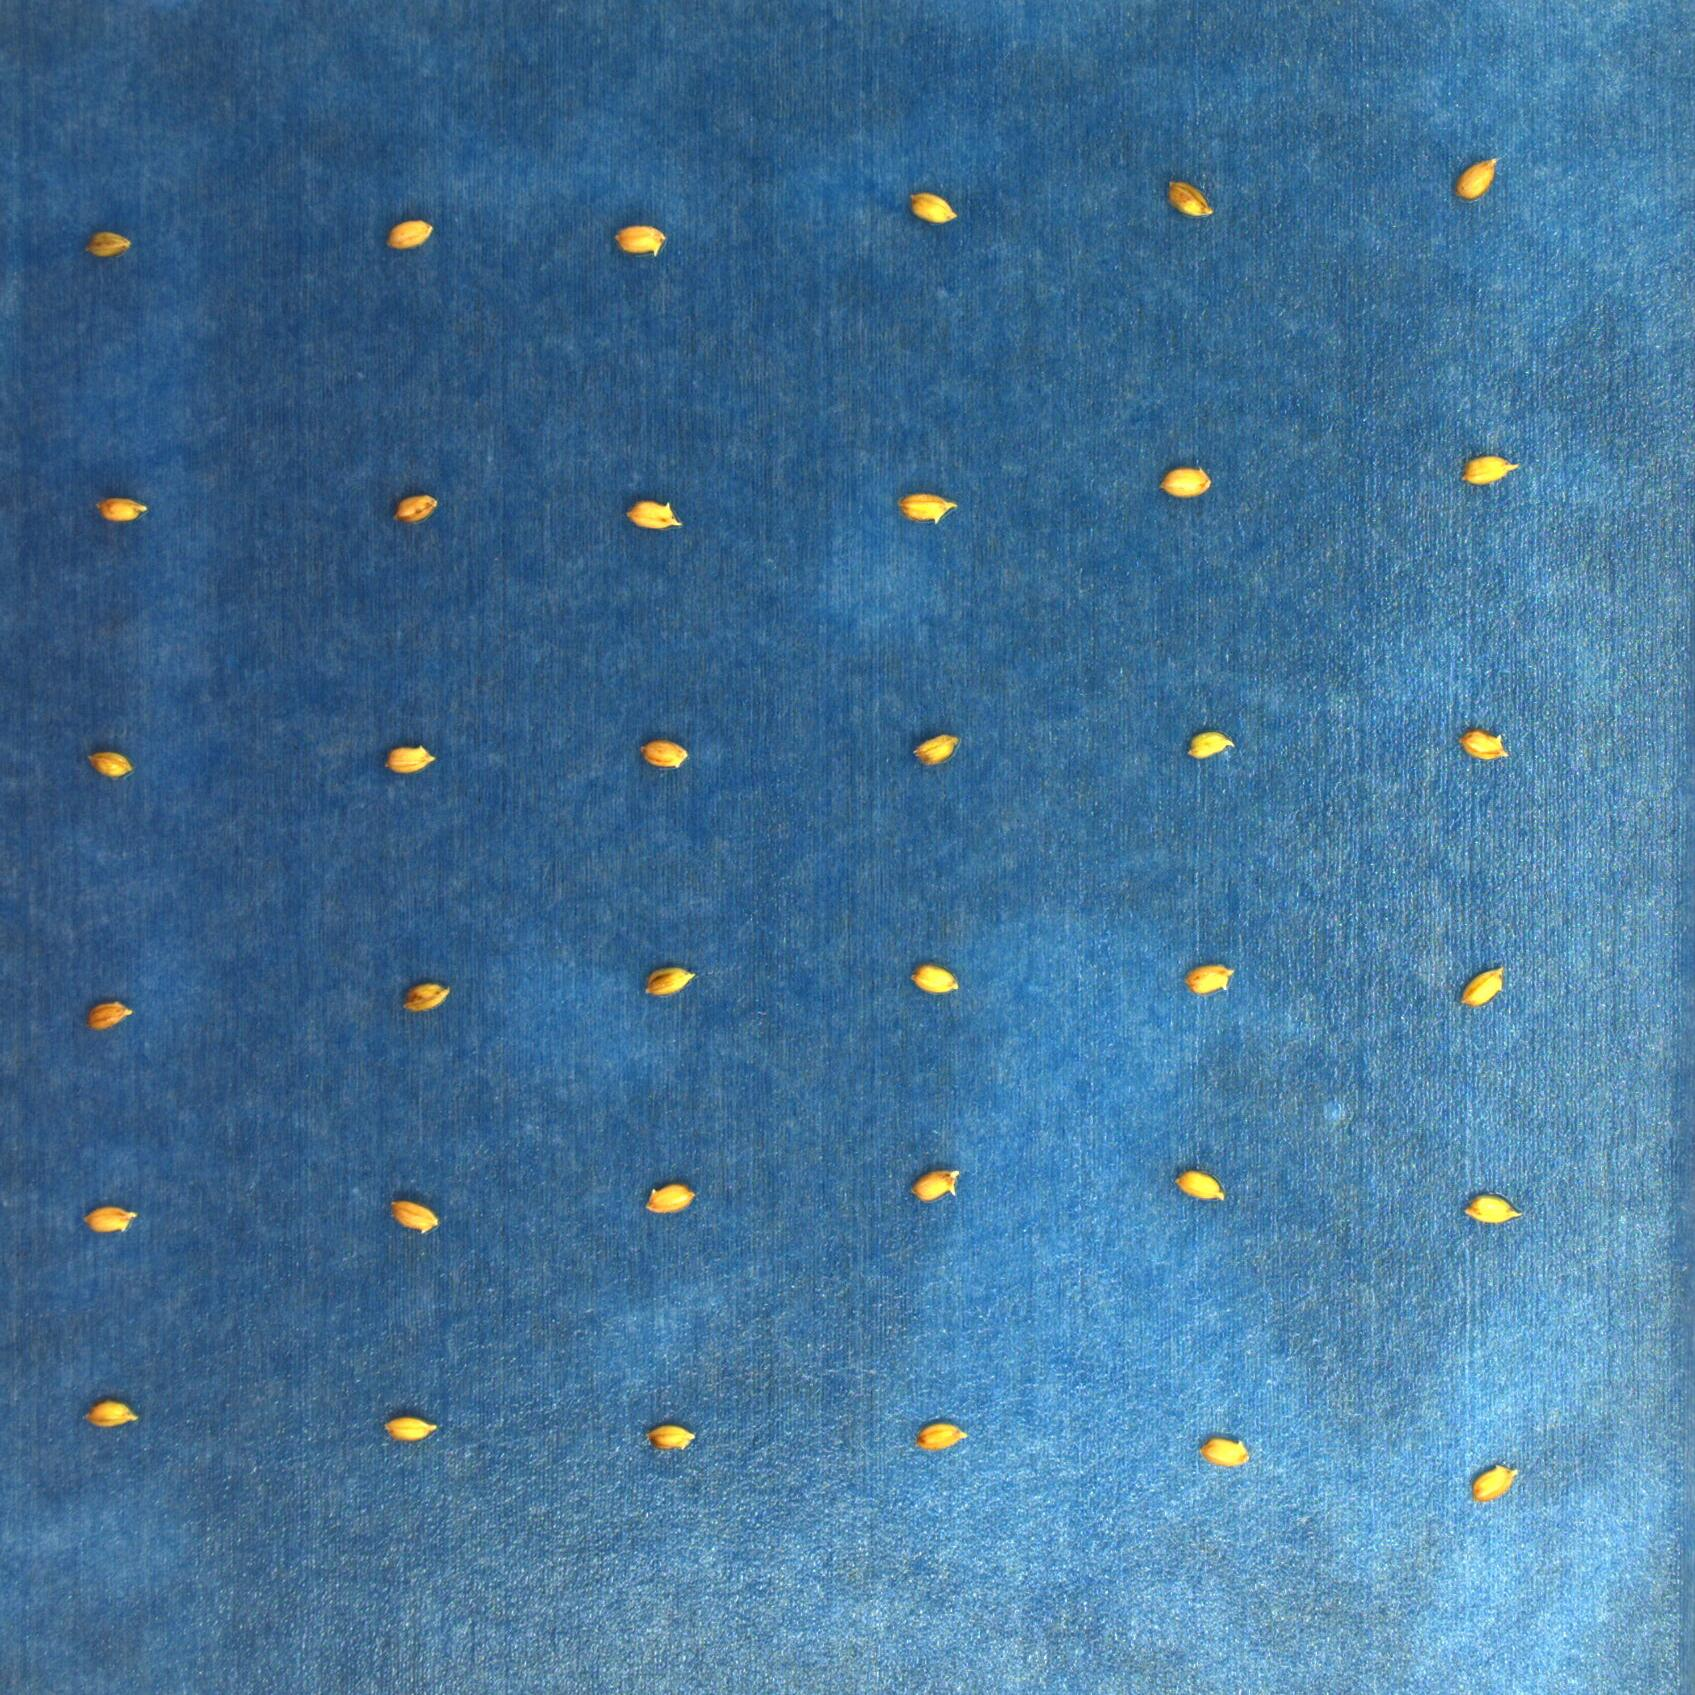not sprout: (1459, 455, 1524, 487), (81, 1205, 140, 1240), (82, 1397, 141, 1433), (1458, 726, 1513, 764), (899, 495, 961, 528), (1461, 965, 1509, 1007), (910, 1166, 961, 1205), (1464, 1194, 1524, 1226), (1173, 1167, 1226, 1205), (624, 498, 681, 532), (383, 1412, 438, 1447), (616, 224, 667, 259), (1458, 157, 1499, 200), (1198, 1434, 1254, 1467), (1166, 179, 1212, 217), (906, 191, 959, 225), (913, 733, 965, 765), (386, 1203, 439, 1236), (643, 1423, 700, 1453), (914, 1423, 969, 1454), (1471, 1464, 1516, 1501), (1187, 961, 1234, 997), (95, 495, 151, 525), (383, 745, 438, 775), (1184, 728, 1239, 757), (643, 969, 694, 1000), (913, 964, 959, 998), (84, 1000, 132, 1032), (1159, 469, 1212, 498), (400, 983, 453, 1012), (646, 1183, 698, 1212), (85, 750, 135, 781), (393, 492, 439, 525), (385, 220, 432, 251), (640, 740, 688, 767), (88, 230, 135, 255)
